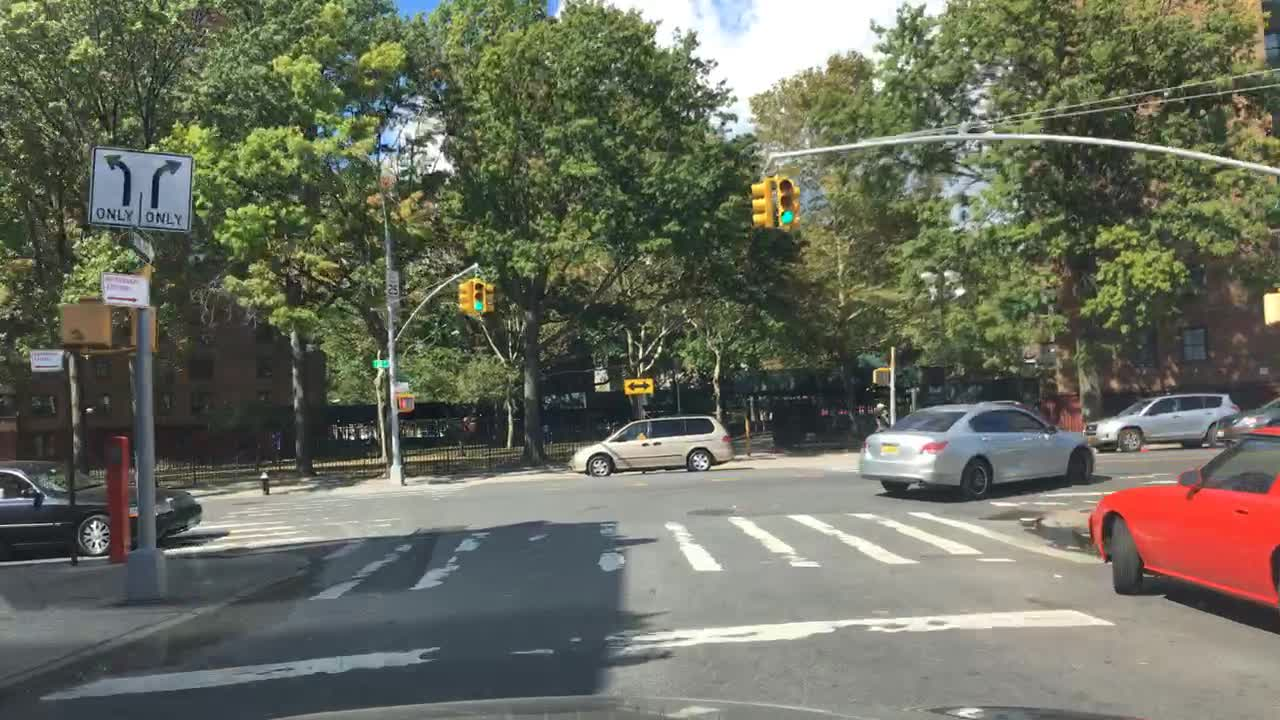car: (1087, 425, 1279, 613), (855, 397, 1095, 501), (0, 456, 203, 558), (566, 413, 736, 476), (1091, 391, 1241, 451), (1203, 393, 1278, 447)
traffic light: (56, 291, 114, 353), (127, 305, 159, 353), (775, 179, 801, 229), (748, 179, 773, 226), (1261, 288, 1279, 324), (457, 279, 472, 313), (470, 279, 485, 313), (395, 391, 417, 414), (484, 281, 495, 315), (873, 367, 891, 387)
traffic sign: (87, 142, 195, 232), (98, 273, 150, 308), (28, 347, 66, 372), (622, 379, 654, 394), (591, 369, 610, 391), (386, 268, 400, 297), (373, 360, 389, 370)
